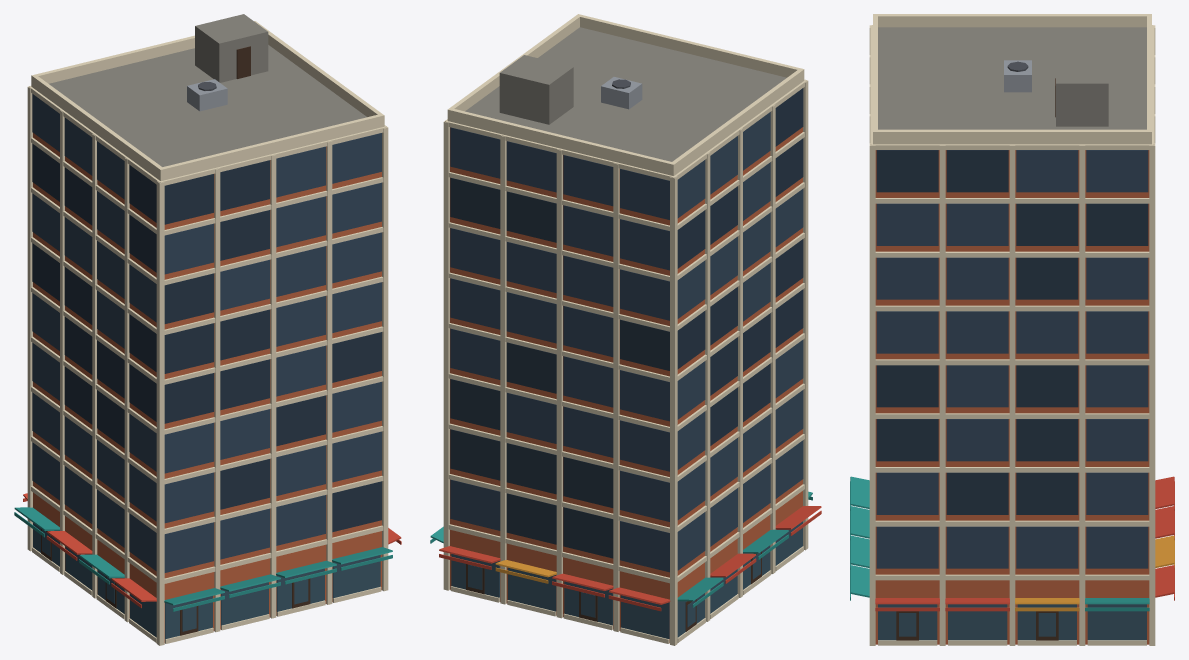
3 renders of one model, left to right at view 1: azimuth 30°, elevation 25°; view 2: azimuth 150°, elevation 25°; view 3: azimuth 270°, elevation 25°, orthographic. The views are drawn at different scales.
Visible parts, largest first — view 1: off_g; view 2: off_g; view 3: off_g.
Part boxes in pixels (bbox=[...]): off_g: bbox=[14, 14, 401, 645]; off_g: bbox=[430, 14, 821, 645]; off_g: bbox=[850, 14, 1174, 645].
Size of what is drawn, in the model's own units: 18.61 by 34.4 by 18.61.
